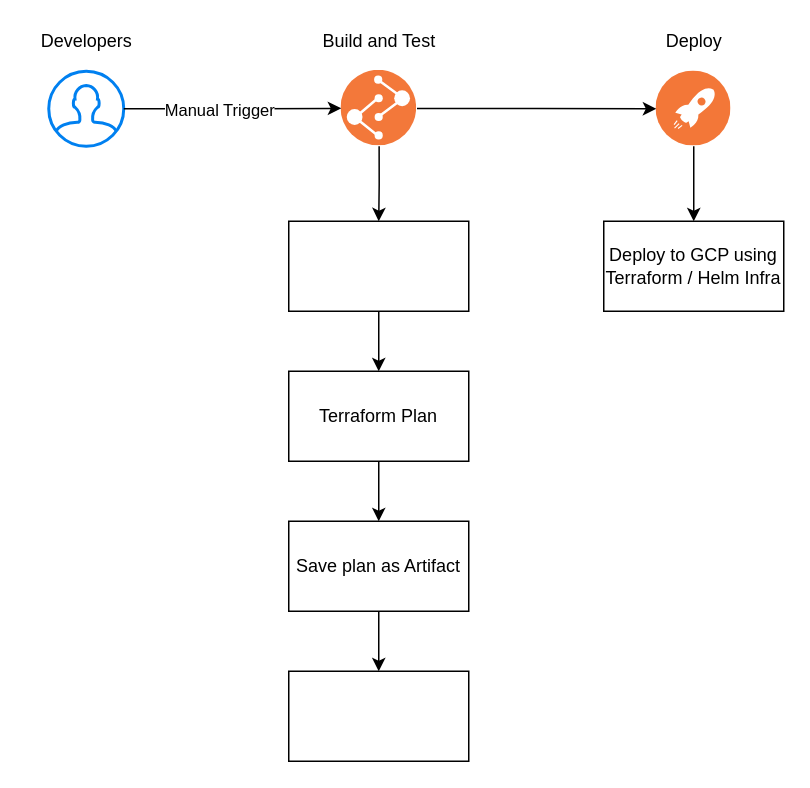
Image size: 810x788. Some labels were removed from this diagram. The shapes that lost their labels are listed below. From the top down, each one's centre as x and y in pixels, then its label:
At (x=378, y=265): "Checkout Code and load Jenkisfile".
At (x=378, y=715): "Terraform Apply".
